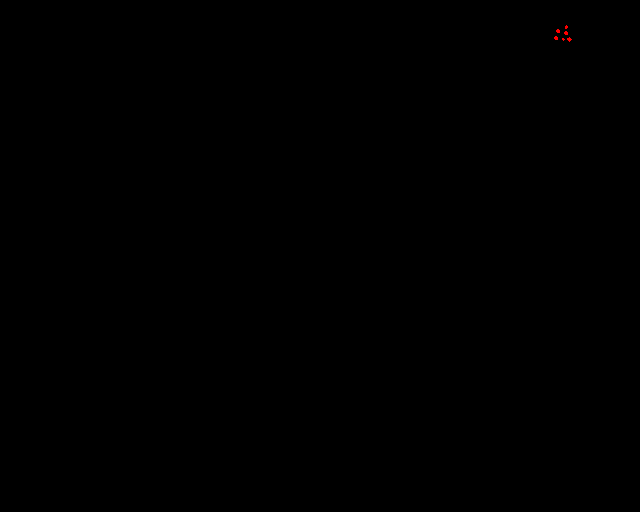Target: (567, 37, 572, 42), (556, 29, 560, 33), (564, 31, 568, 35), (554, 36, 558, 40), (565, 25, 568, 29), (562, 38, 565, 41)
